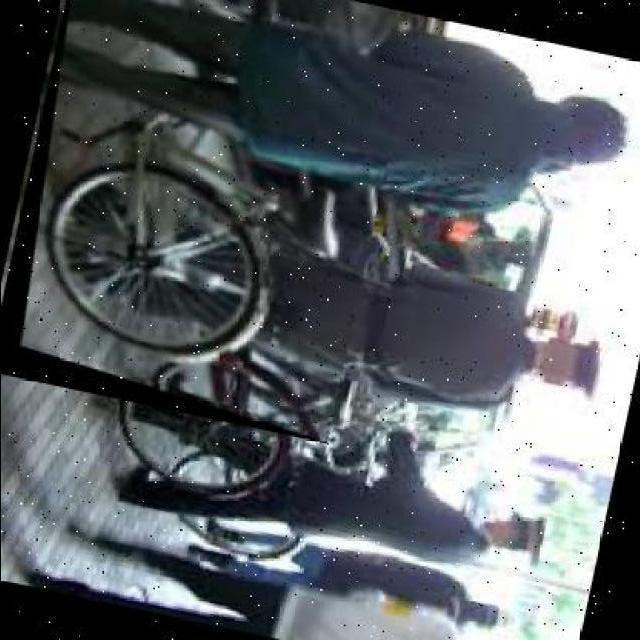bicycle: (2, 1, 419, 445)
